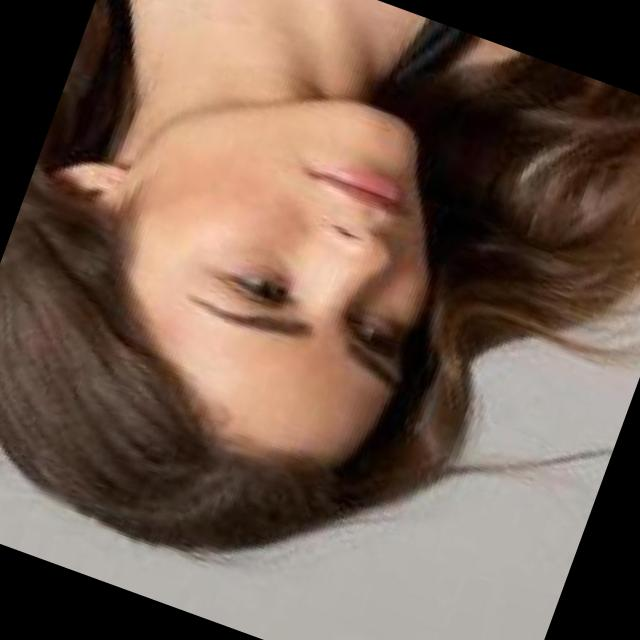bareface: (0, 8, 492, 565)
